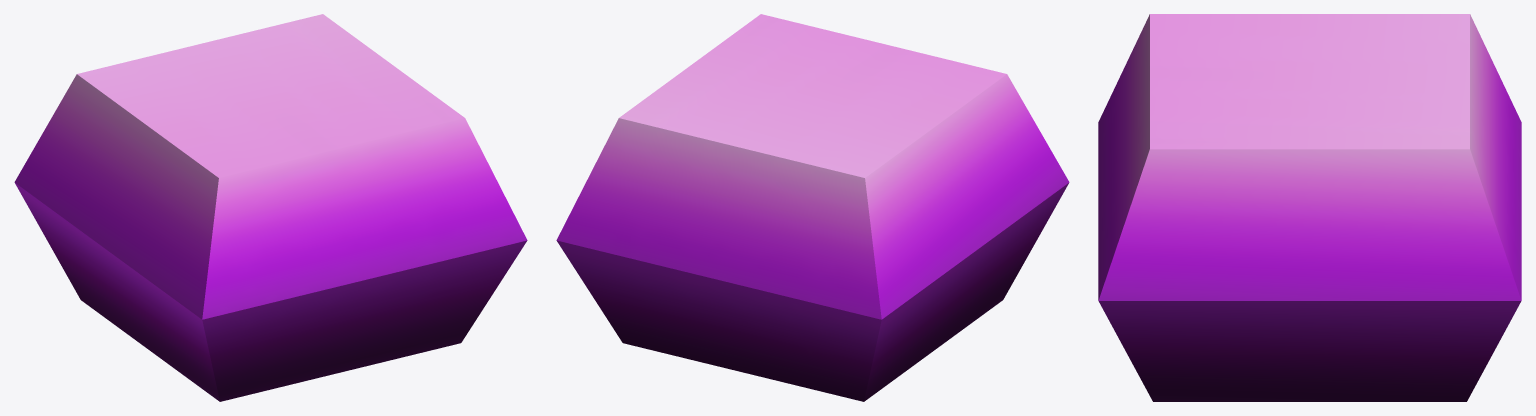
The model's file is Gem_Magenta.fbx.
3 renders of one model, left to right at view 1: azimuth 30°, elevation 25°; view 2: azimuth 150°, elevation 25°; view 3: azimuth 270°, elevation 25°, orthographic. The views are drawn at different scales.
Visible parts, largest first — view 1: Gem_Magenta; view 2: Gem_Magenta; view 3: Gem_Magenta.
Boxes of the visible parts, box(x1,y1,x2,y2) form: Gem_Magenta: box(14, 14, 527, 401); Gem_Magenta: box(556, 14, 1069, 401); Gem_Magenta: box(1098, 14, 1521, 401).
Bounding box in the file's own units: 7.34 × 7.34 × 4.86.
Materials: 1 (1 with a texture image).
